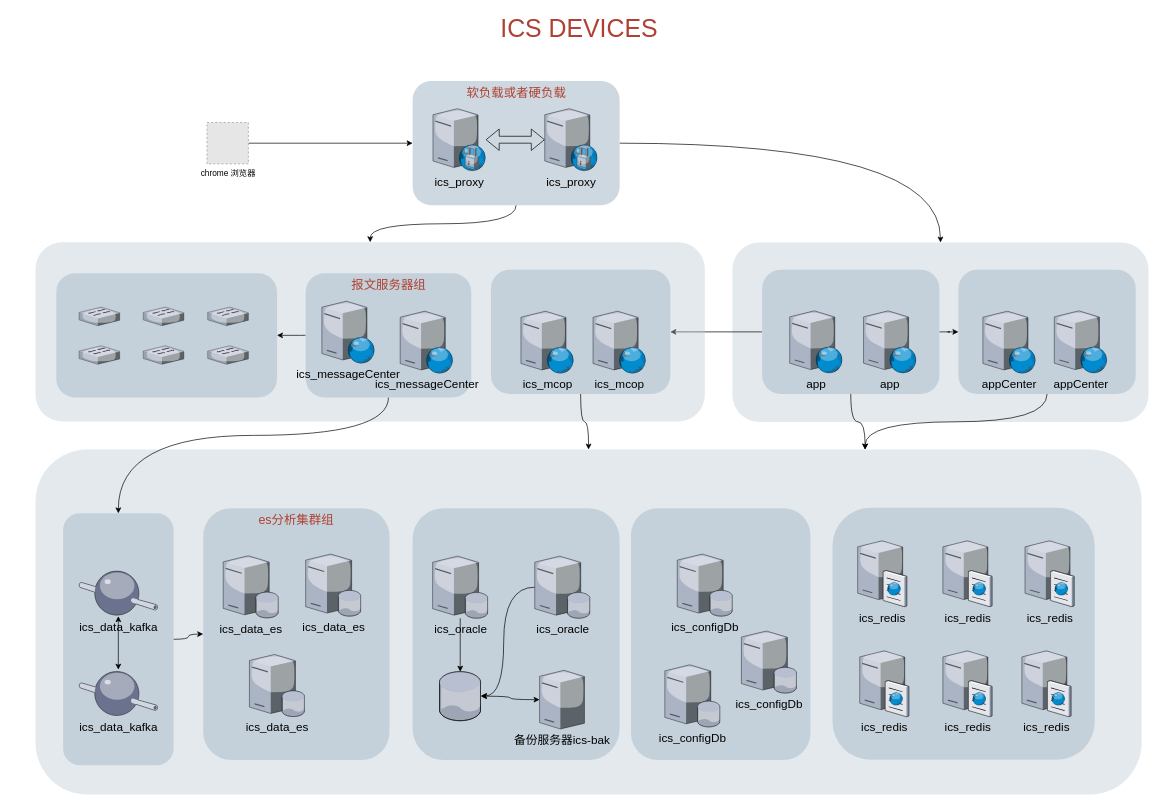
The diagram is 1160 pixels wide and 806 high, and some of its shapes have lost their labels. Grey dashed boxes stand in for pictures. The box of each missing label's shape, as (x1, y1, x2, y2) in pixels:
mcop服务器组: (491, 269, 670, 394)
oracle集群组: (412, 508, 619, 760)
web应用服务器: (762, 269, 939, 394)
公共服务器组: (35, 449, 1141, 794)
共享存储: (439, 671, 481, 720)
应用中心服务器: (958, 269, 1135, 394)
应用服务器组: (732, 242, 1148, 422)
报文中心服务器组: (35, 242, 704, 421)
盒子组（数量若干）: (56, 273, 277, 397)
缓存服务器组: (832, 507, 1094, 759)
通道集群组: (63, 513, 173, 765)
配置数据库集群组: (631, 508, 810, 760)
